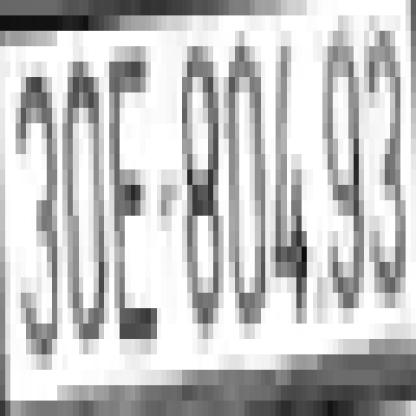0: (219, 46, 266, 308), (57, 77, 104, 324)
3: (10, 77, 58, 354), (358, 31, 405, 293)
4: (265, 46, 312, 308)
8: (177, 46, 218, 308)
9: (317, 31, 364, 293)
E: (109, 62, 156, 324)
